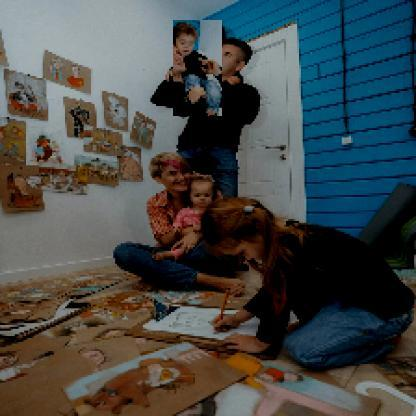child: (201, 197, 416, 370), (152, 174, 221, 263), (175, 21, 225, 118)
